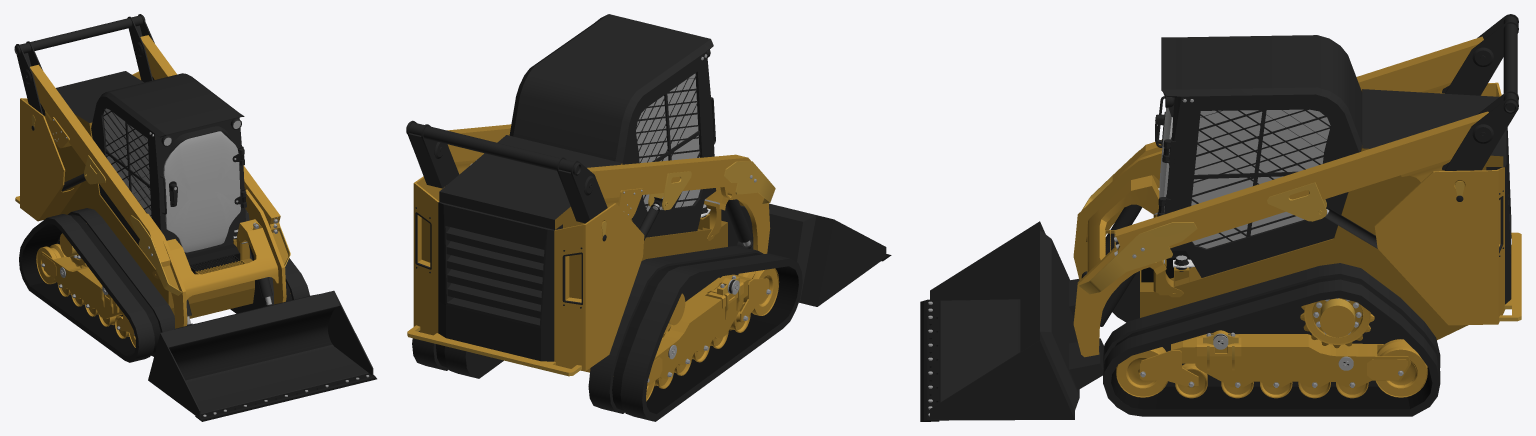
File: compact-track-loader.glb
The picture shows the model from 3 angles, left to right: view 1: azimuth 30°, elevation 25°; view 2: azimuth 150°, elevation 25°; view 3: azimuth 270°, elevation 25°; orthographic projection. The views are drawn at different scales.
Visible parts, largest first — view 1: Cube.006, Cube.002, Cube.003, Cube.019, Cube.004, Cube.001, Cube.011, Cube.008, Cube.010, Cube.007, Plane, Cube.005 (+12 smaller); view 2: Cube.003, Cube.002, Cube.001, Cube.004, Cube.027, Cube.028, Cube.006, Cube.011, Plane, Cube.005, Cube.010, Circle.009 (+10 smaller); view 3: Cube.003, Cube.002, Cube.001, Cube.004, Cube.006, Cube, Cube.010, Plane, Cube.007, Cube.005, Cube.011, Plane.003 (+20 smaller).
Part boxes in pixels (x1,y1,x2,y2): Cube.006: (161, 291, 368, 413); Cube.002: (19, 208, 309, 362); Cube.003: (91, 73, 245, 255); Cube.019: (163, 131, 240, 252); Cube.004: (54, 71, 254, 318); Cube.001: (20, 71, 140, 221); Cube.011: (30, 64, 170, 266); Cube.008: (166, 219, 278, 300); Cube.010: (148, 290, 373, 417); Cube.007: (147, 189, 286, 328); Plane: (40, 251, 122, 319); Cube.005: (15, 14, 154, 114); Cube.003: (509, 14, 716, 237); Cube.002: (412, 245, 802, 421); Cube.001: (413, 176, 644, 371); Cube.004: (439, 135, 727, 372); Cube.027: (438, 202, 562, 361); Cube.028: (446, 227, 544, 318); Cube.006: (721, 203, 832, 306); Cube.011: (587, 154, 750, 198); Plane: (647, 274, 751, 386); Cube.005: (407, 120, 607, 223); Cube.010: (816, 219, 886, 306); Circle.009: (406, 122, 581, 175); Cube.003: (1161, 35, 1362, 277); Cube.002: (1103, 263, 1440, 416); Cube.001: (1374, 82, 1505, 325); Cube.004: (1140, 89, 1503, 339); Cube.006: (939, 222, 1104, 418); Cube: (1116, 111, 1488, 253); Cube.010: (930, 221, 1074, 420); Plane: (1171, 334, 1410, 387); Cube.007: (1073, 151, 1161, 357); Cube.005: (1442, 14, 1518, 170); Cube.011: (1112, 36, 1483, 180); Plane.003: (1079, 150, 1197, 294).
Size of the model in its own units: 1.72 by 2.04 by 3.64.
